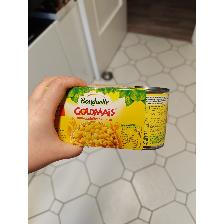Mais: (43, 82, 171, 152)
